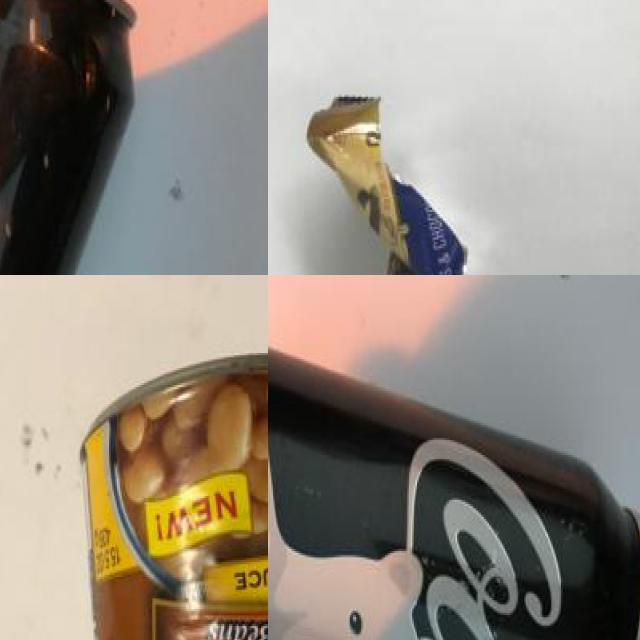plastic: (268, 316, 640, 640), (57, 312, 268, 640), (0, 0, 148, 275)
trash: (303, 77, 519, 275)
